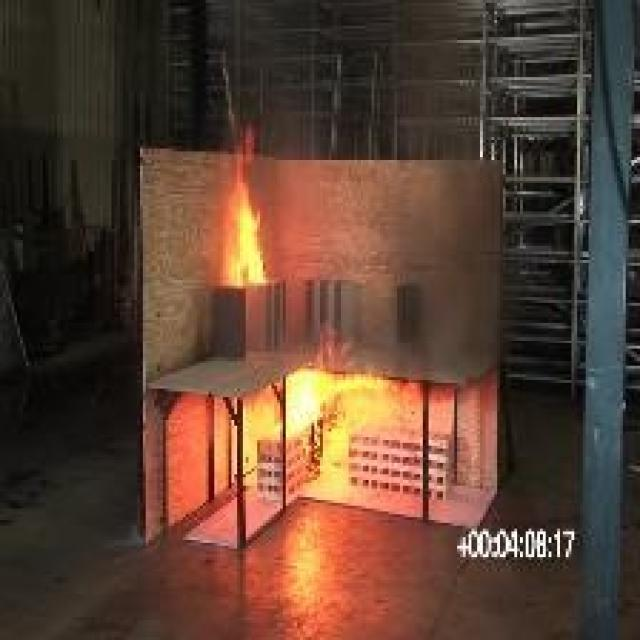fire: (246, 336, 397, 493), (187, 123, 307, 308)
